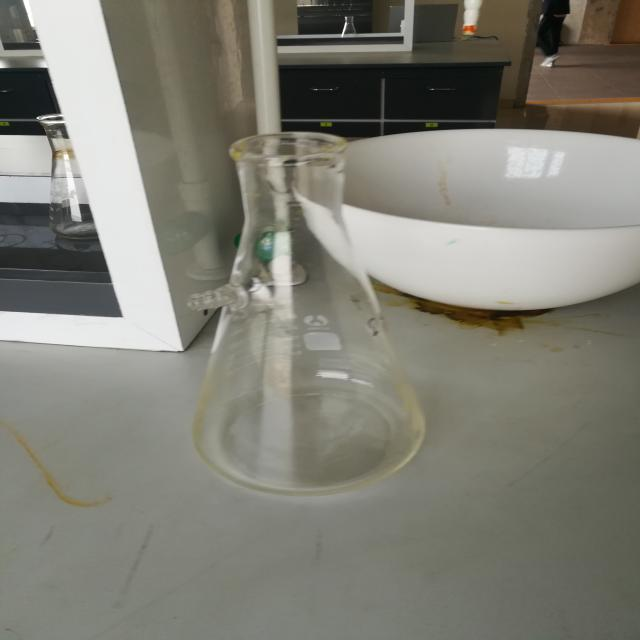Conical_Flask: (166, 97, 447, 514)
